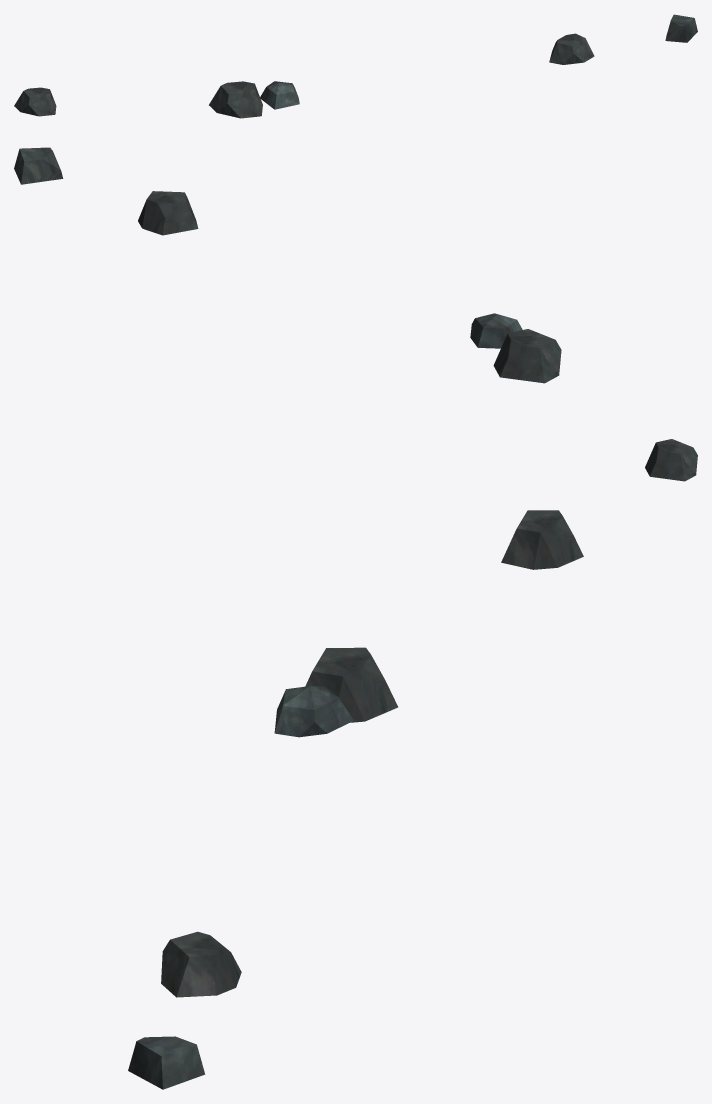
The model's file is object_rubble06.fbx.
3 renders of one model, top to bottom at view 1: azimuth 30°, elevation 25°; view 2: azimuth 150°, elevation 25°; view 3: azimuth 270°, elevation 25°, orthographic. The views are drawn at different scales.
Parts seen in each view (by area): view 1: obj0.083; view 2: obj0.083; view 3: obj0.083.
Part boxes in pixels (x1,y1,x2,y2): obj0.083: (14, 14, 697, 118); obj0.083: (14, 147, 697, 481); obj0.083: (128, 510, 583, 1089).
Bounding box in the file's own units: 8.97 × 0.3705 × 3.04.
